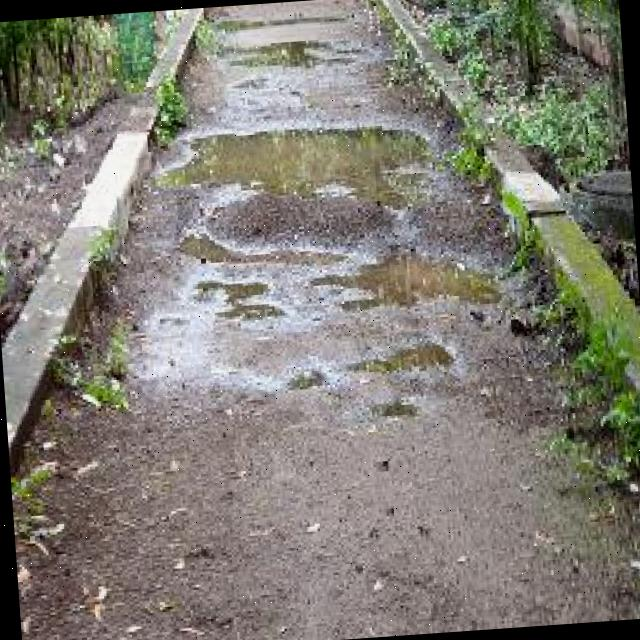stagnation: (171, 104, 440, 229), (352, 239, 500, 314)
